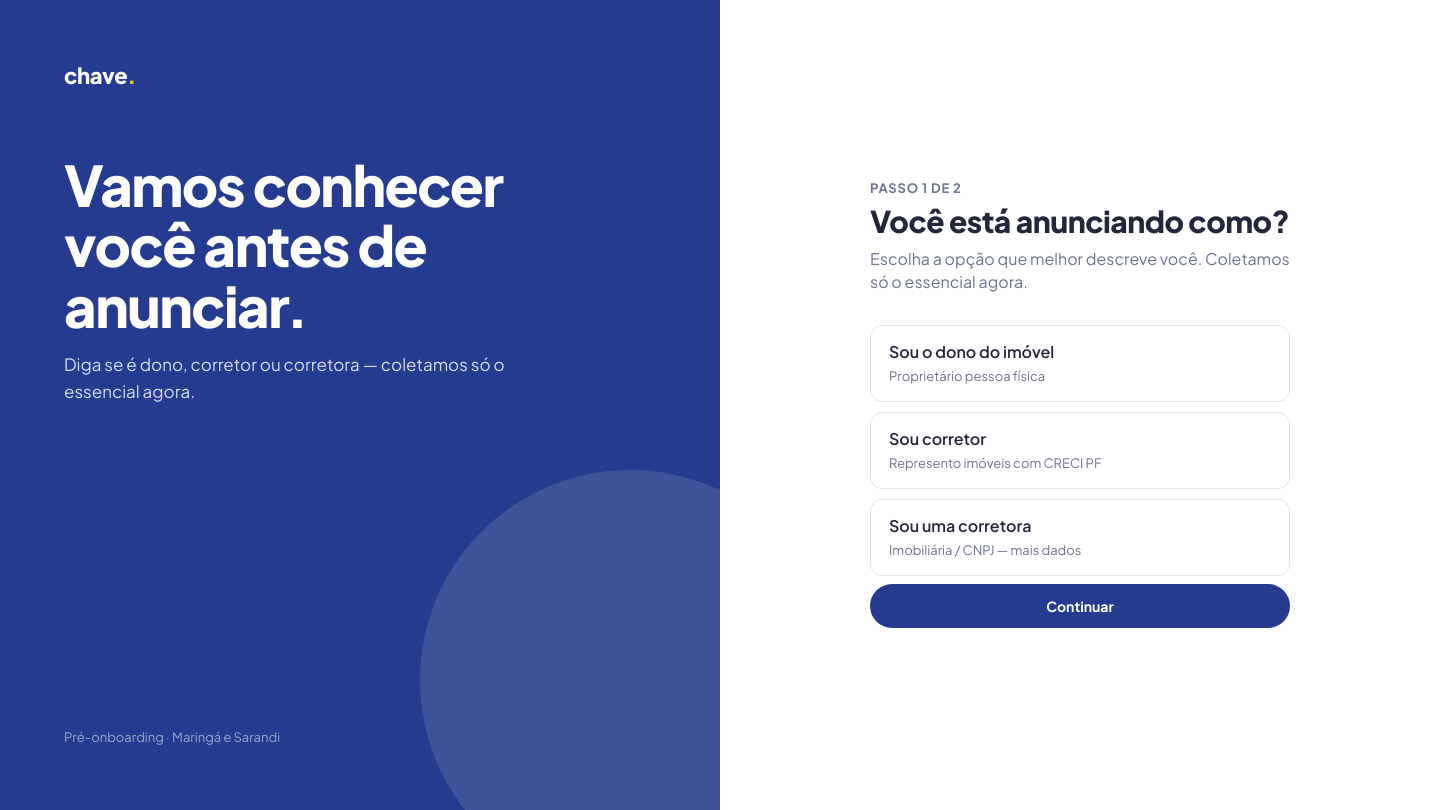
OnboardingListPage › requires persona before continuing
This screenshot has width=1440, height=810.
expect the heading "Você está anunciando como?" is shown: met, box [870,203,1290,239]
Click the button "Continuar".
click(1080, 606)  # box [870,584,1290,628]
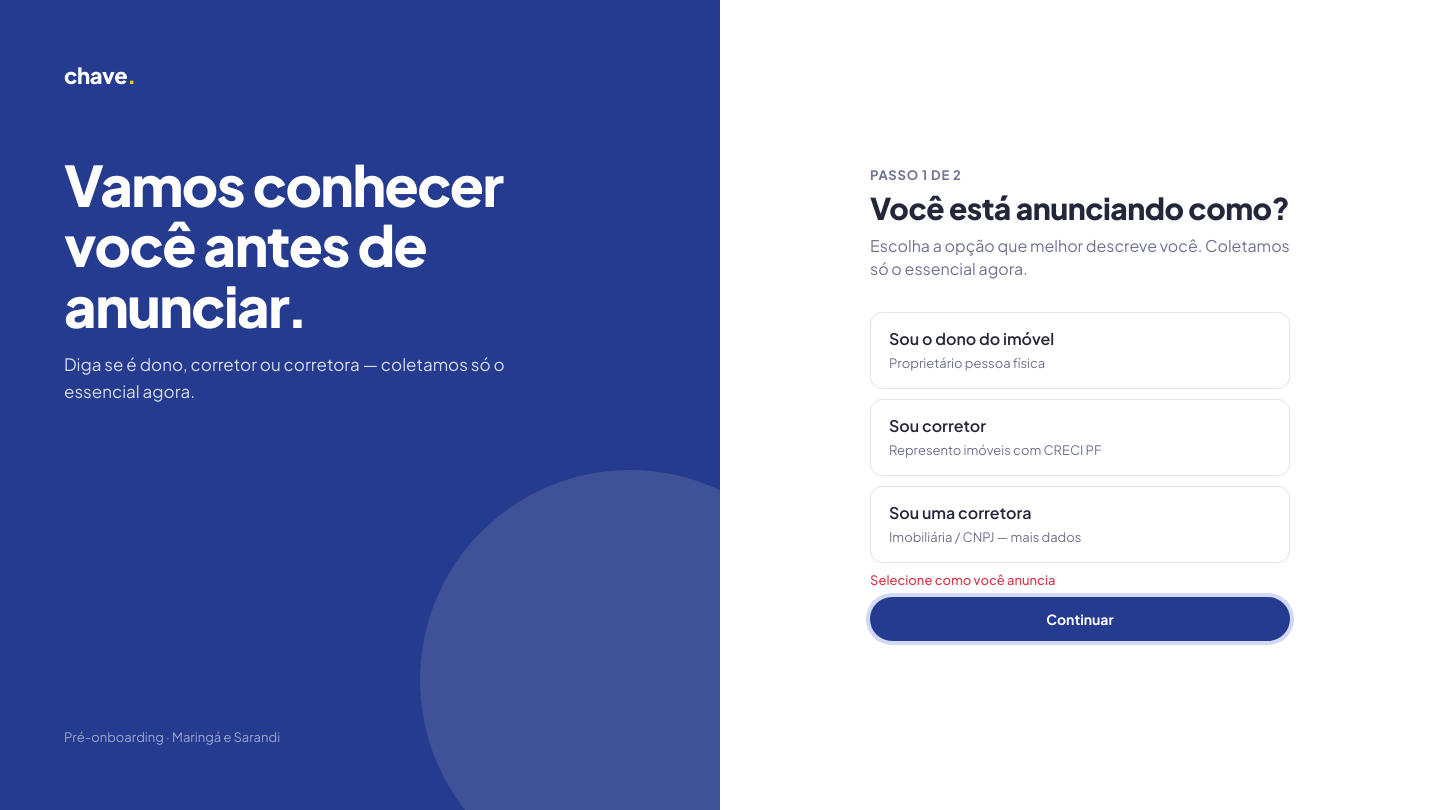
expect the text "Selecione como você anuncia" is shown: met, box [870,572,1056,588]
